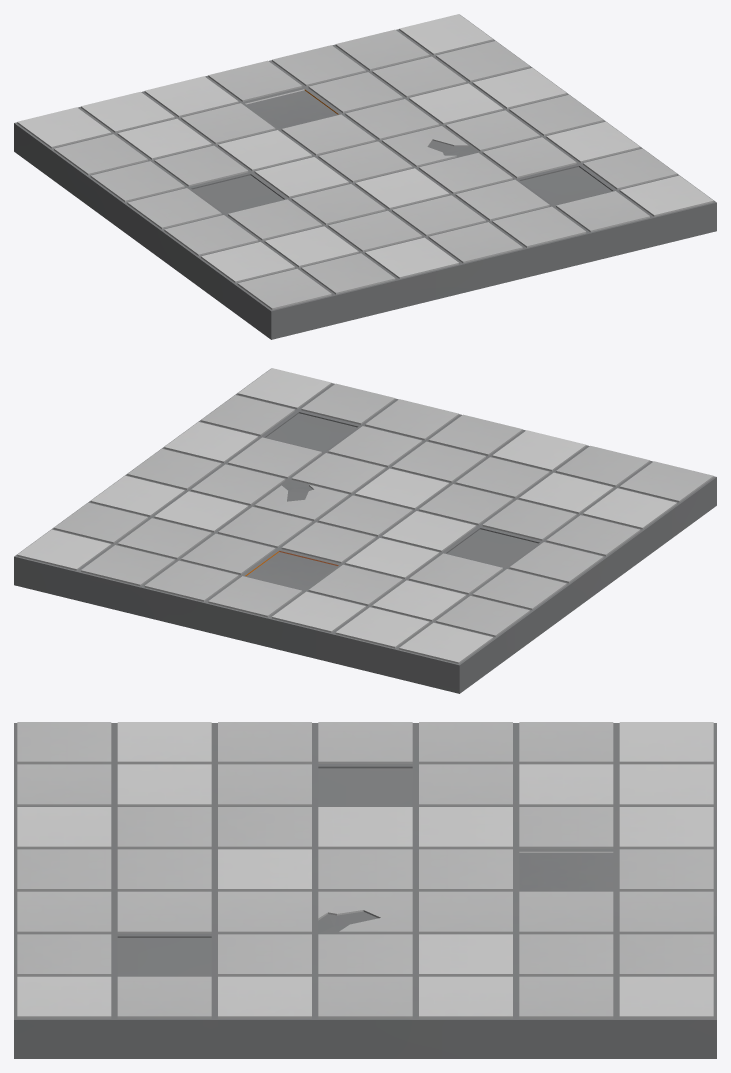
File: tile_floor_1_damaged_2.dae
The picture shows the model from 3 angles, top to bottom: view 1: azimuth 30°, elevation 25°; view 2: azimuth 150°, elevation 25°; view 3: azimuth 270°, elevation 25°; orthographic projection. The views are drawn at different scales.
Parts seen in each view (by area): view 1: tile_floor_1_damaged_2; view 2: tile_floor_1_damaged_2; view 3: tile_floor_1_damaged_2.
Part boxes in pixels (left/top/right/bottom): tile_floor_1_damaged_2: left=14, top=14, right=716, bottom=339; tile_floor_1_damaged_2: left=14, top=368, right=716, bottom=693; tile_floor_1_damaged_2: left=14, top=722, right=716, bottom=1058.
Bounding box in the file's own units: 2 × 2 × 0.1294.
